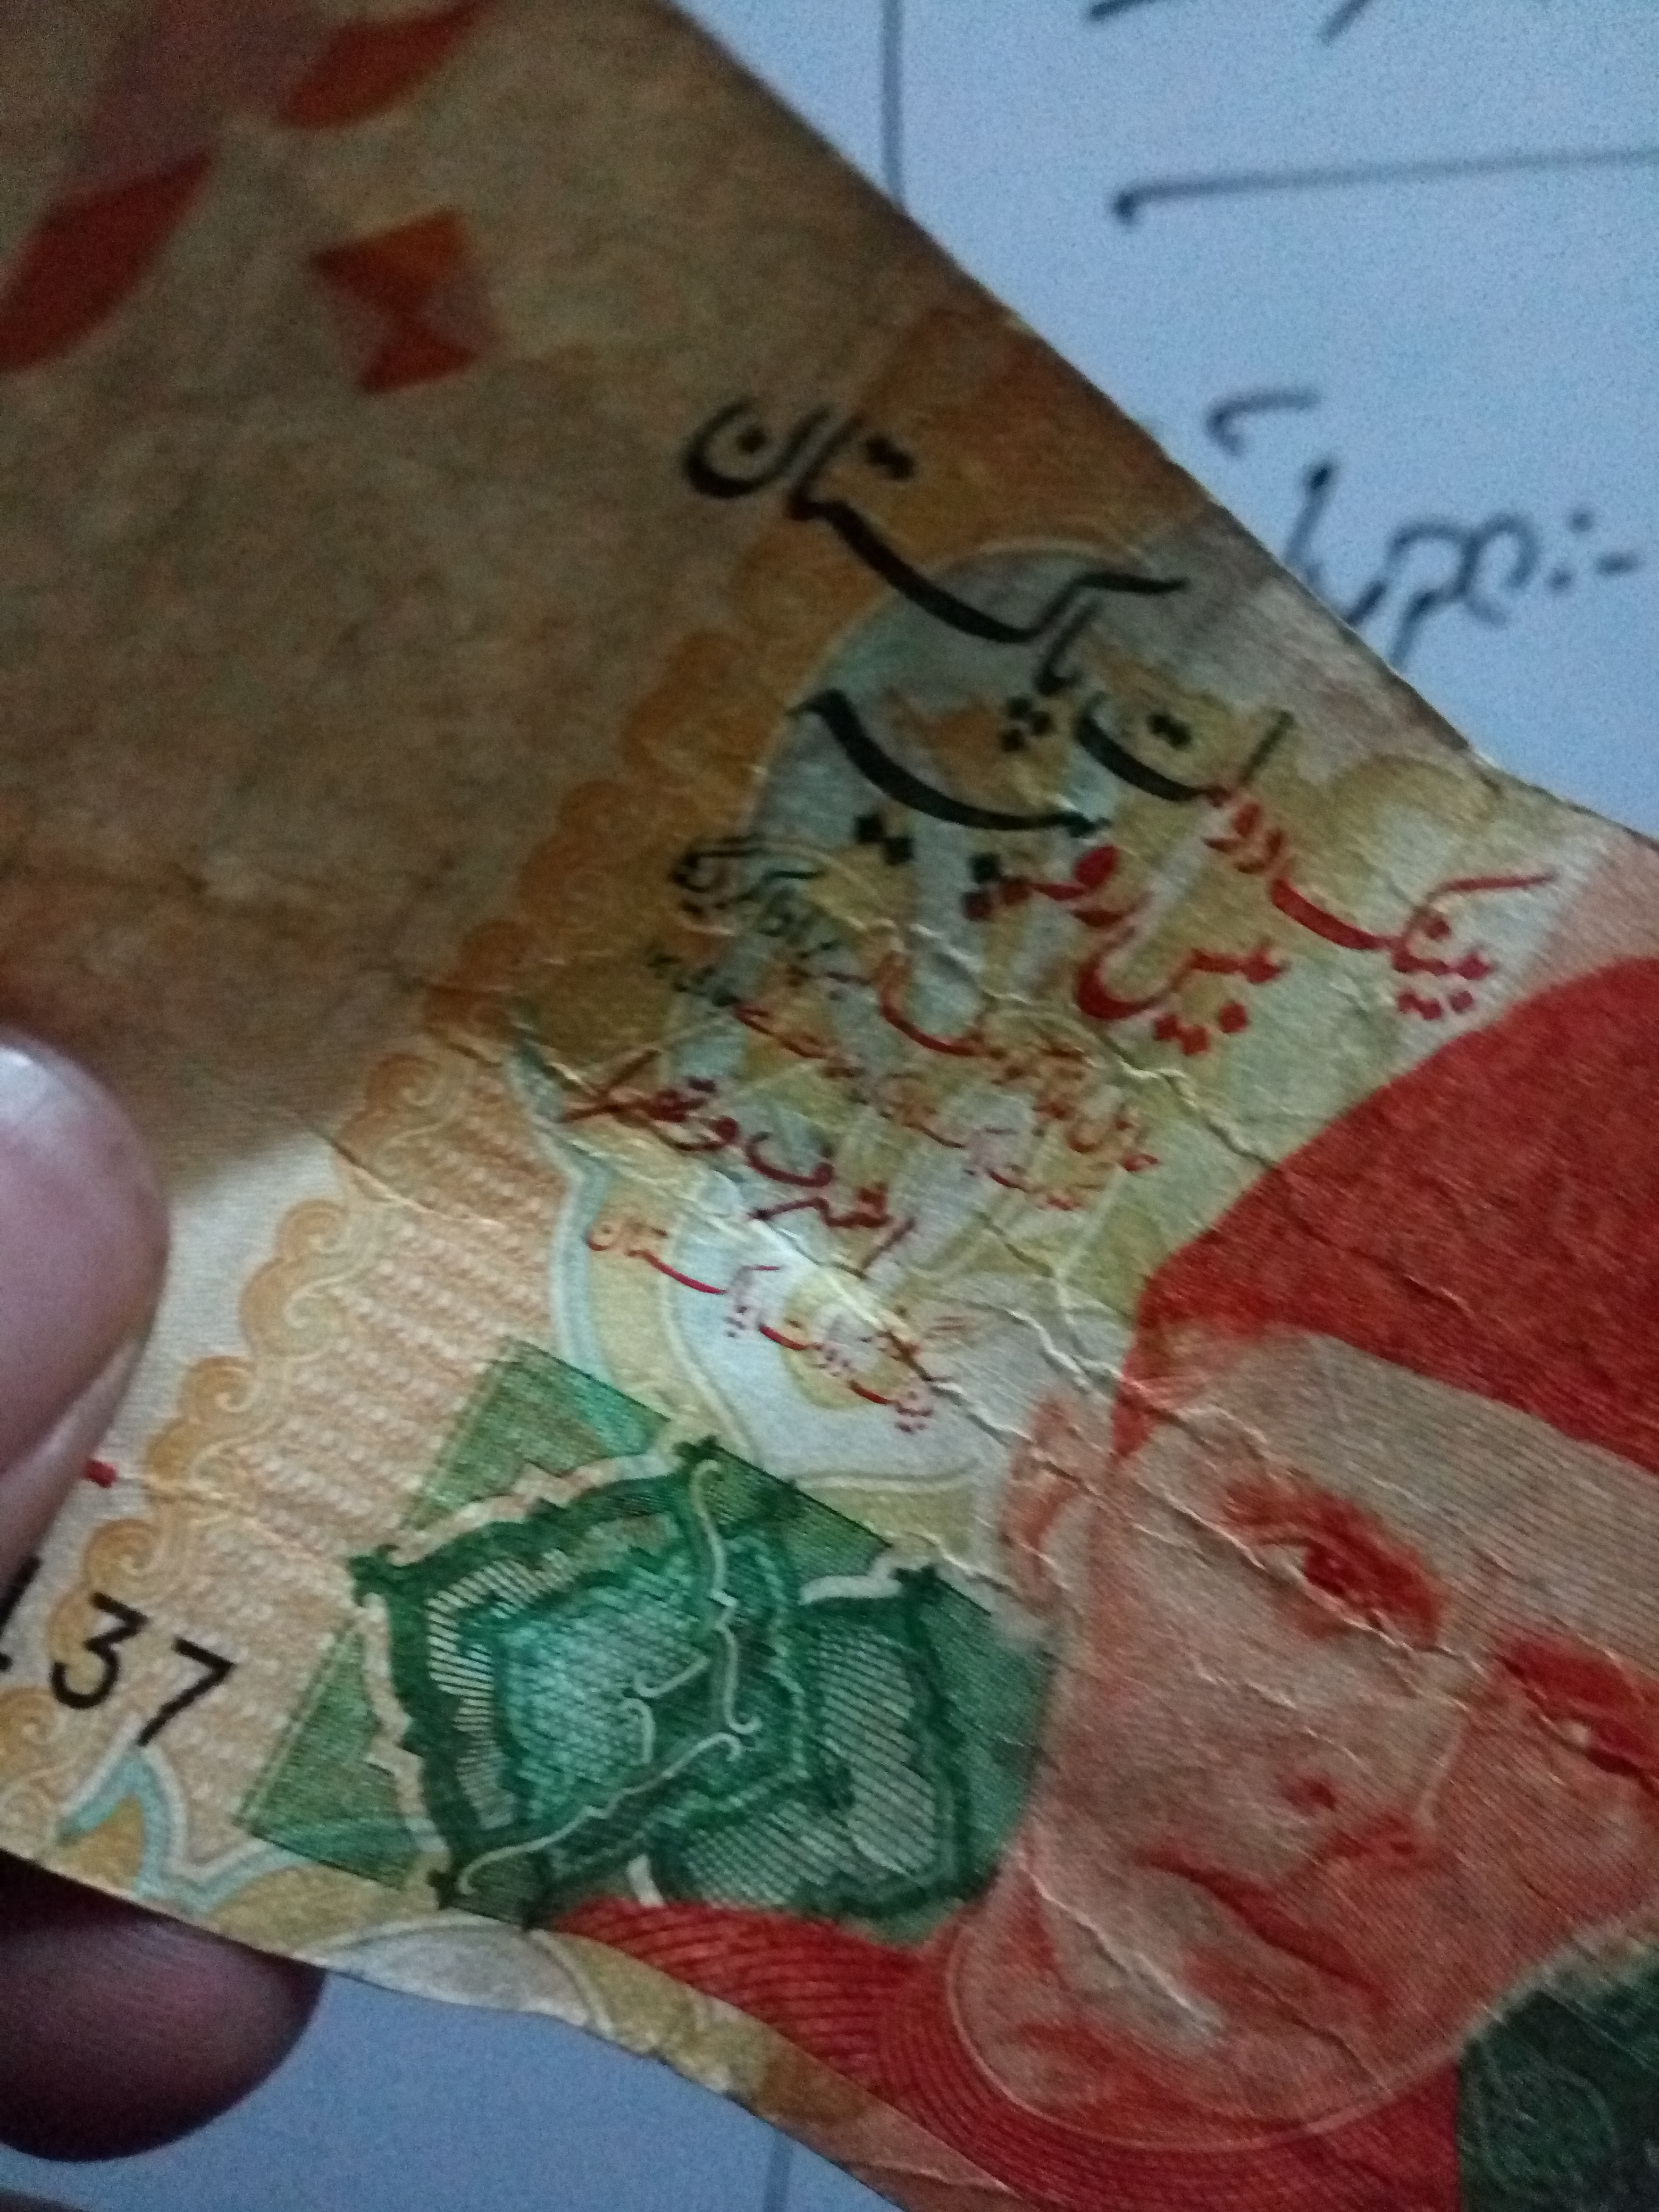20 rupee: (30, 38, 1657, 2212)
